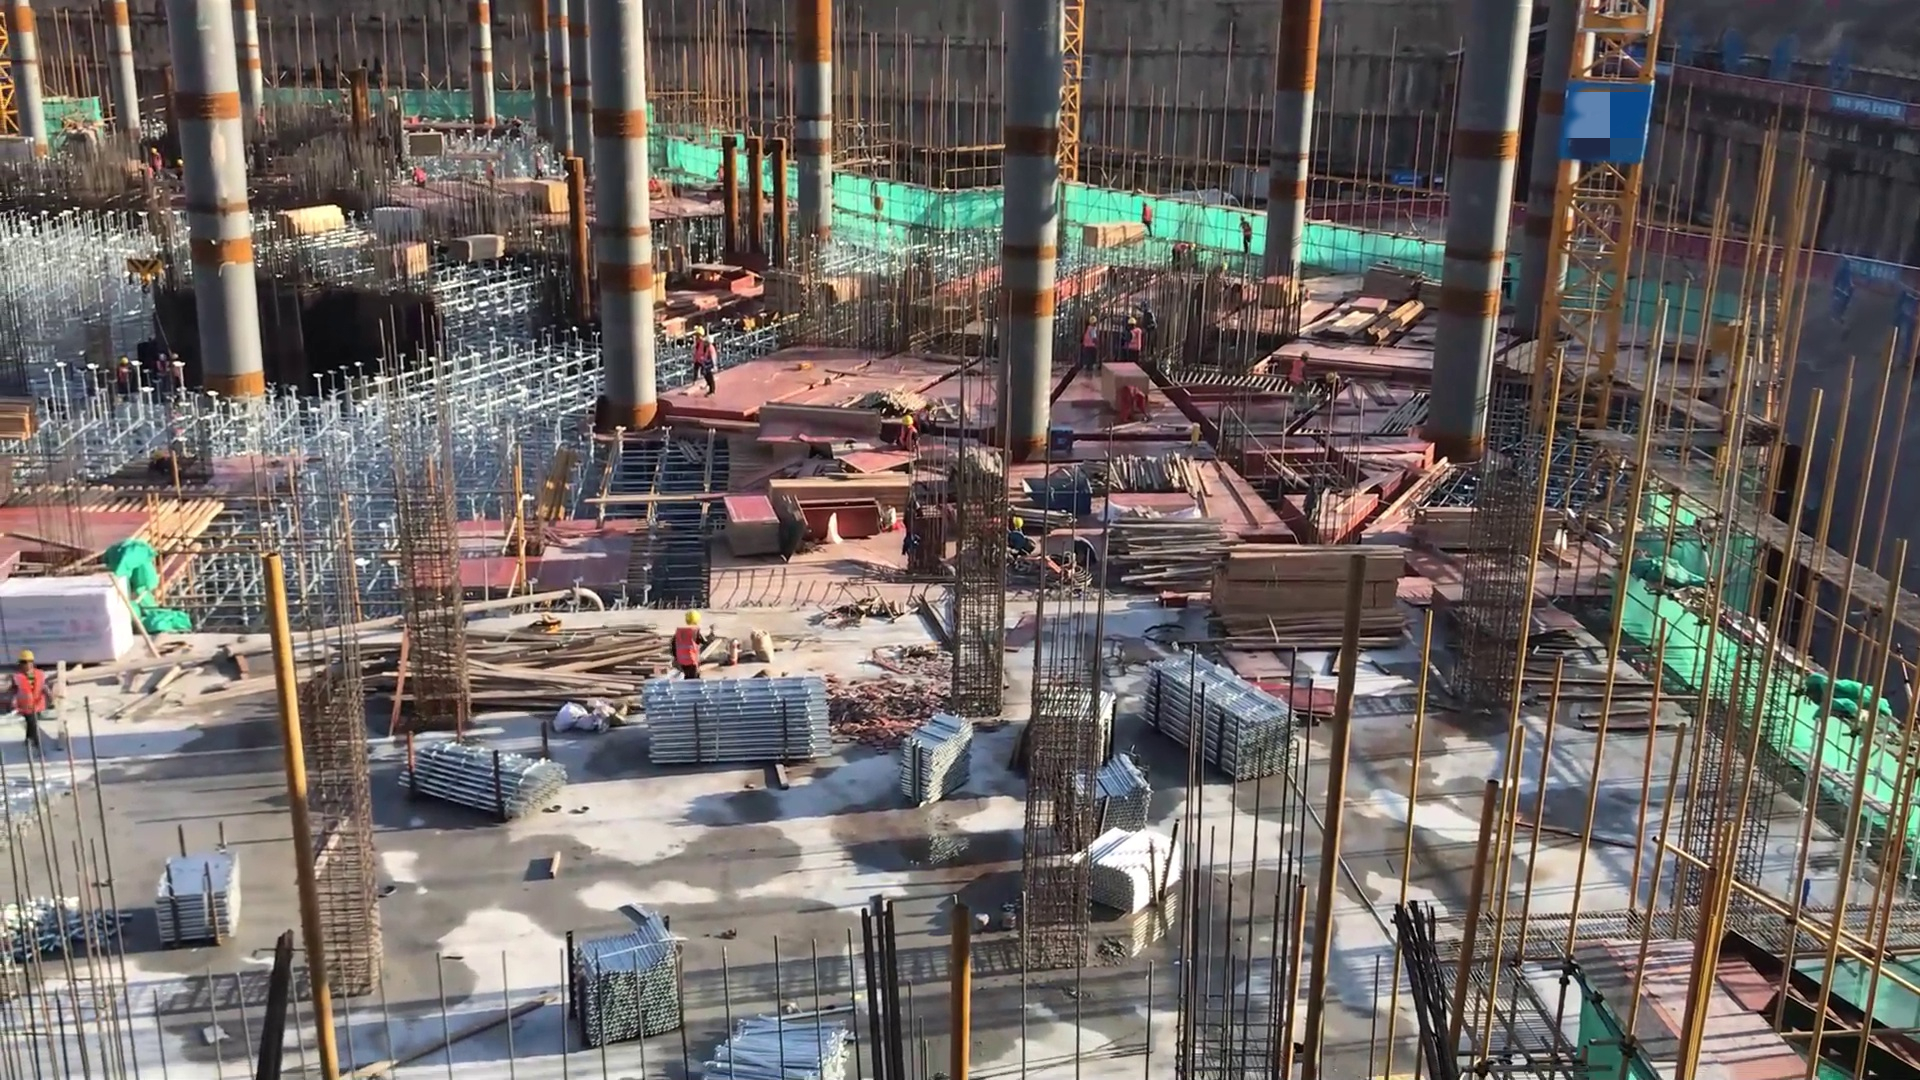board: (1245, 674, 1345, 728), (720, 494, 789, 566), (528, 177, 570, 219)
helmet: (679, 611, 704, 630), (14, 652, 42, 668), (1009, 513, 1025, 534), (899, 415, 917, 428), (1326, 371, 1338, 387), (1087, 313, 1098, 327), (704, 334, 717, 345), (1299, 349, 1311, 362), (1127, 318, 1137, 332), (150, 147, 159, 156)
hook: (1023, 471, 1097, 516)
person: (12, 651, 63, 756), (666, 608, 719, 695), (972, 510, 1031, 554), (1137, 297, 1161, 365), (1288, 346, 1311, 416), (1119, 383, 1154, 426), (702, 329, 722, 398), (896, 409, 919, 466), (1122, 312, 1145, 366), (1164, 238, 1195, 274), (1314, 368, 1344, 404), (1084, 312, 1103, 371), (690, 325, 705, 389), (1237, 210, 1255, 260), (147, 144, 163, 188), (1141, 197, 1157, 239), (408, 164, 429, 191), (534, 150, 548, 185), (485, 158, 497, 190)
scaffold: (1152, 655, 1298, 791), (643, 676, 838, 778), (394, 739, 577, 830), (566, 914, 681, 1049), (894, 710, 983, 832), (715, 1007, 842, 1080), (1073, 748, 1151, 852)
slogan: (1833, 92, 1913, 134)
vest: (670, 627, 710, 680), (11, 670, 53, 719), (898, 424, 919, 454), (703, 345, 720, 378), (1126, 327, 1146, 354), (1085, 325, 1098, 353), (1143, 307, 1159, 331)
wood: (1210, 537, 1410, 653), (468, 623, 662, 713), (1110, 508, 1229, 593), (769, 469, 920, 519), (1411, 503, 1560, 550), (274, 200, 346, 240), (1079, 220, 1151, 254), (454, 231, 503, 264)
